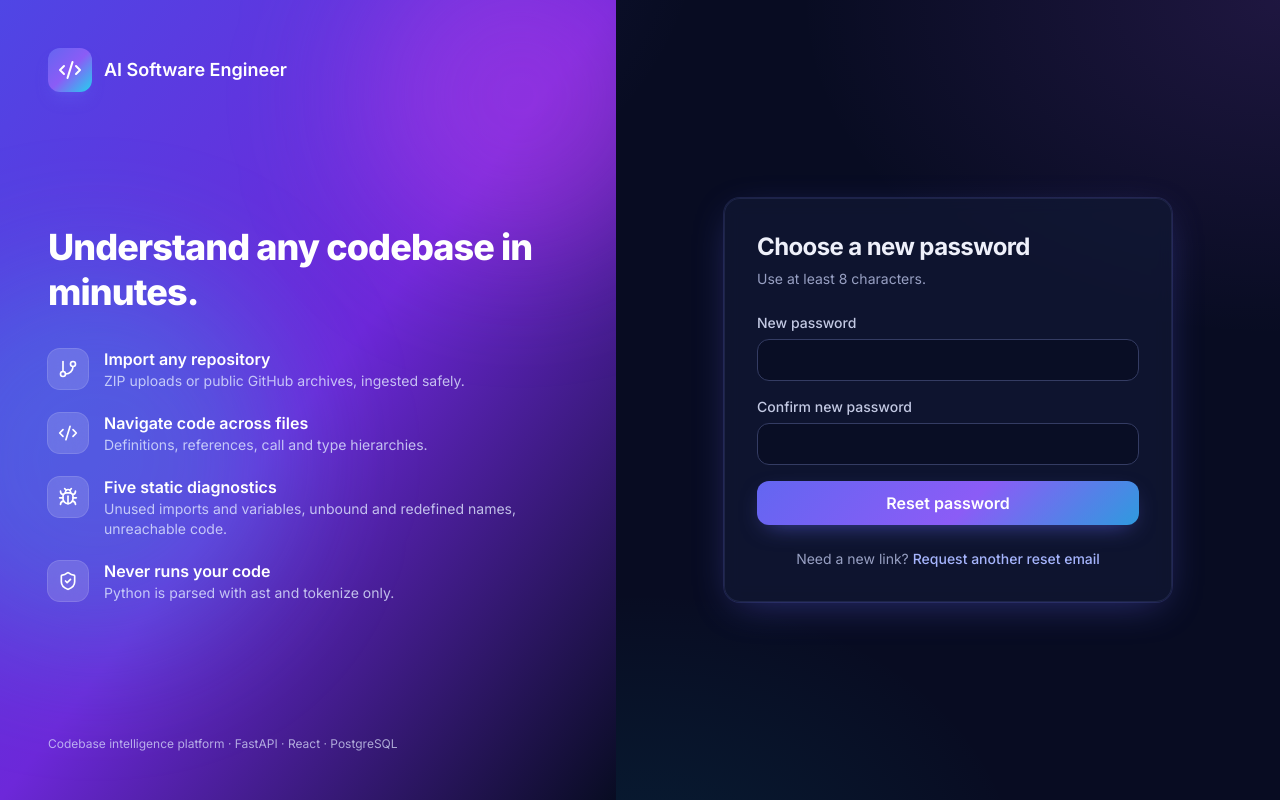
Test: reset password › keeps the token under StrictMode double rendering
Type "brand-new-Passw0rd" into the password field labelled "New password" at x=948, y=360, box [757,339,1139,381]
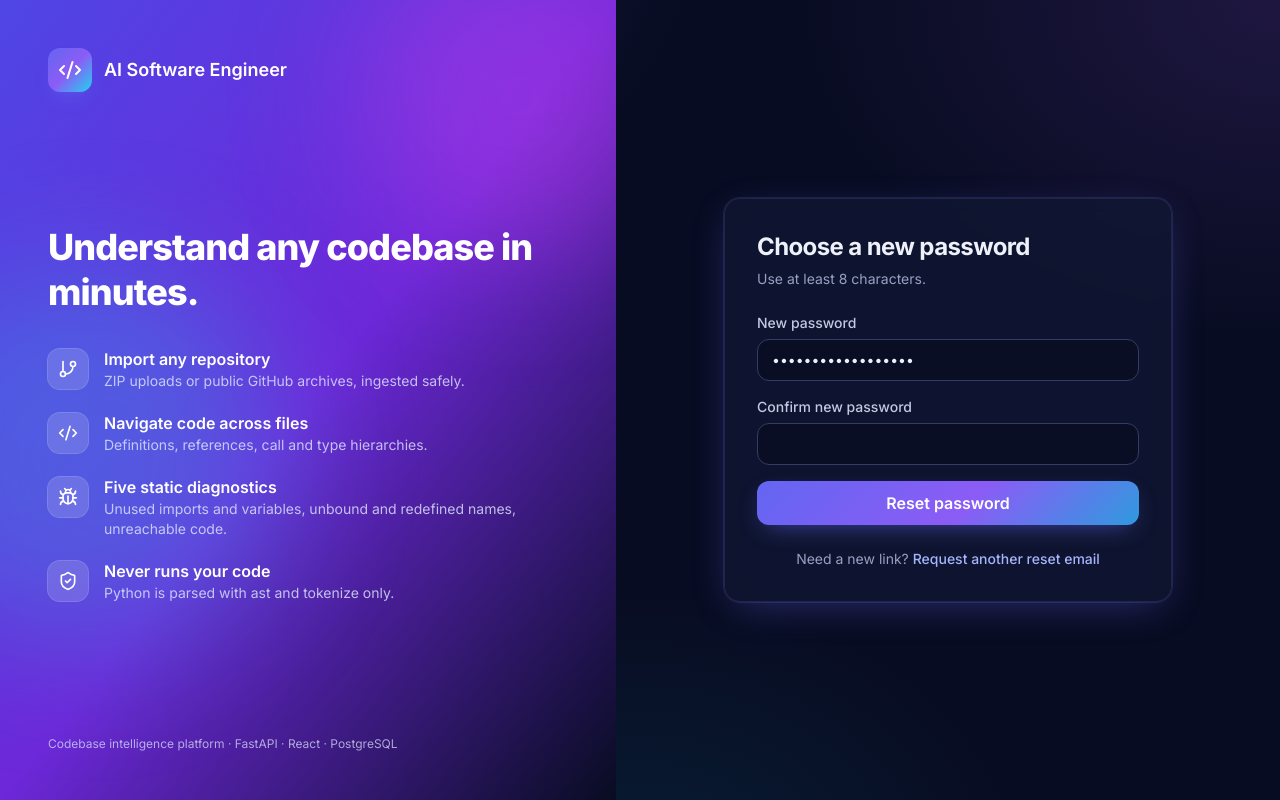
Type "brand-new-Passw0rd" into the password field labelled "Confirm new password" at x=948, y=444, box [757,423,1139,465]
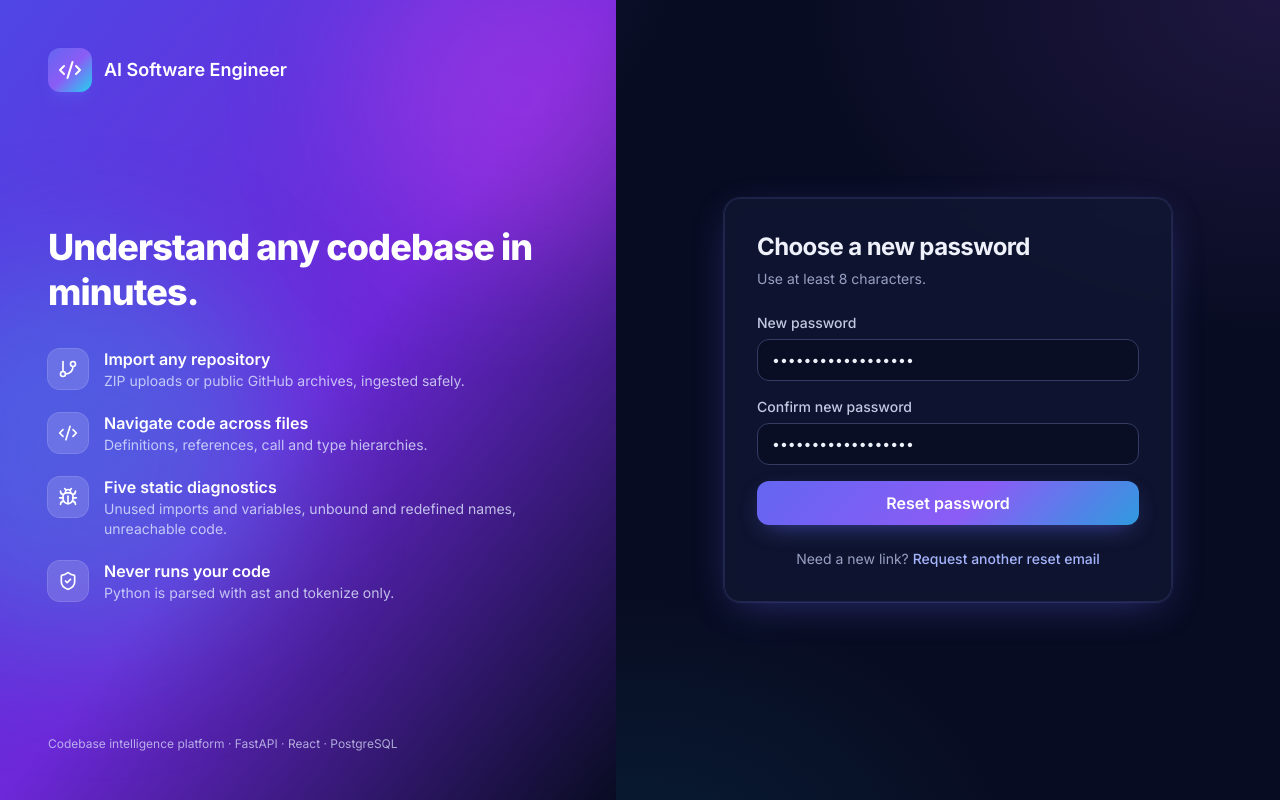
Click the button "Reset password" at x=948, y=503, box [757,481,1139,525]
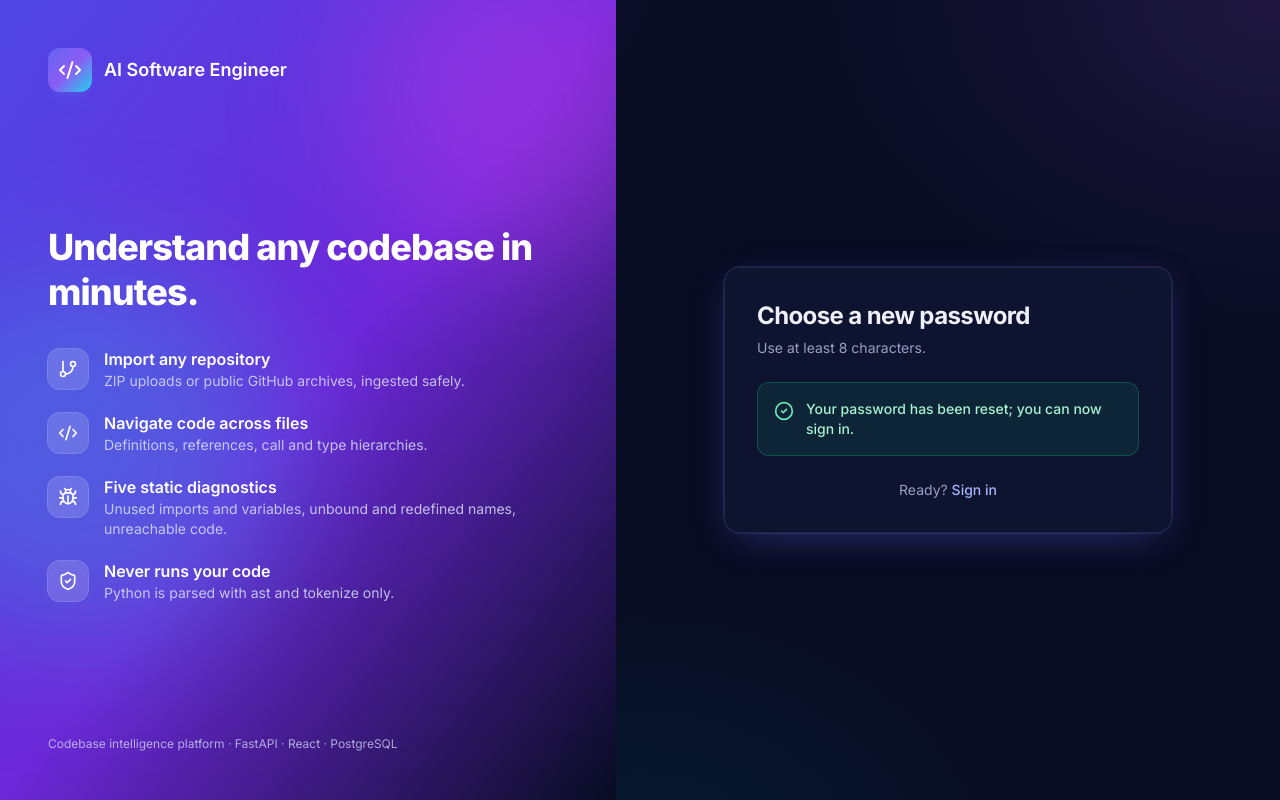
Check: the message shows "Your password has been reset; you can now sign in", box [806,400,1102,437]
